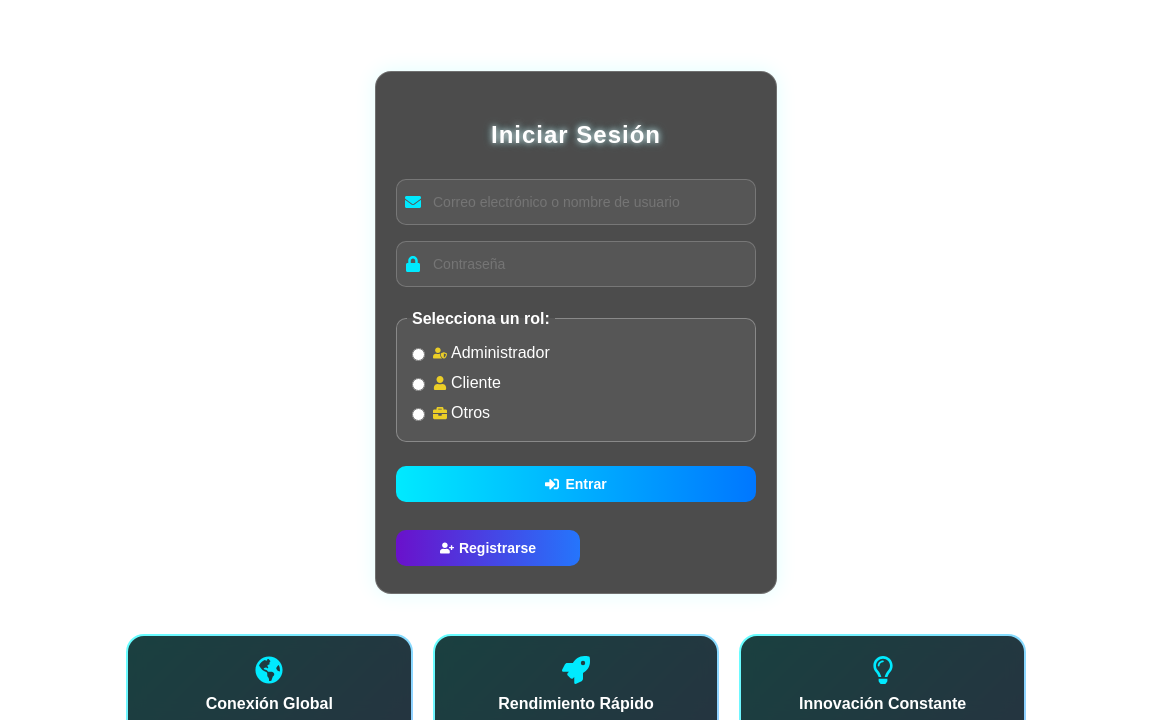
Test: Login Component › muestra mensaje de error cuando las credenciales son inválidas
Type "wrong@example.com" into the field with placeholder "Correo electrónico o nombre de usuario". click: {"x": 587, "y": 202}
box: left=427, top=188, right=747, bottom=216
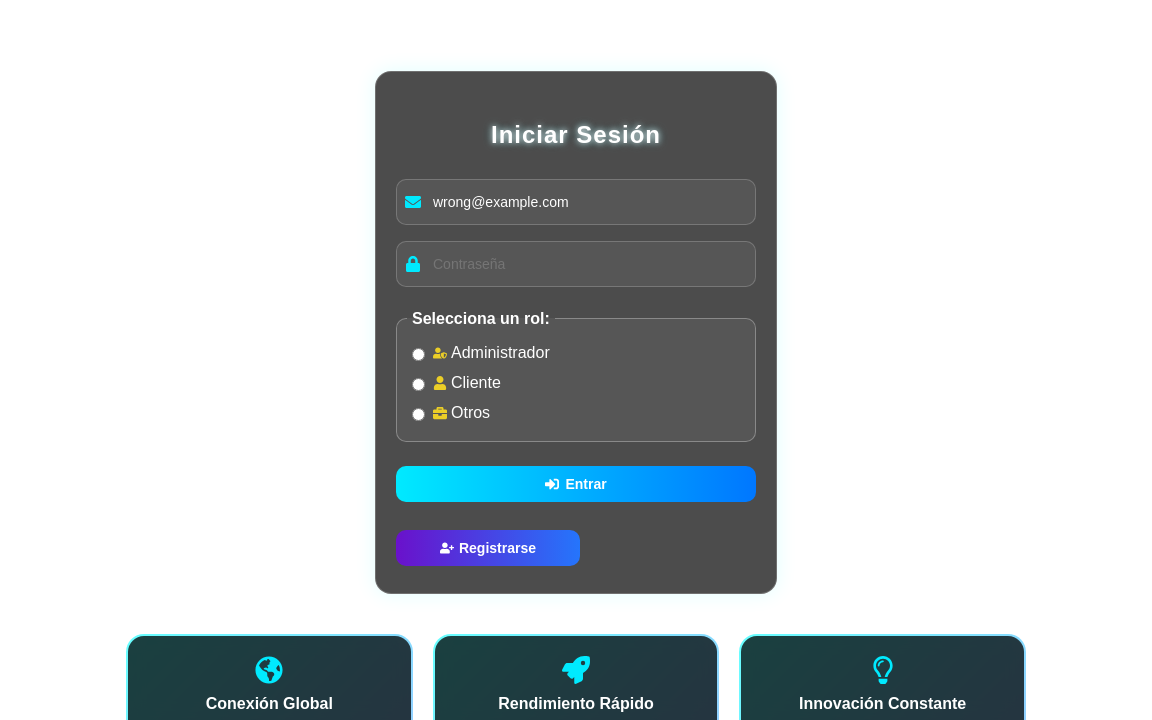
Type "wrongpass" into the password field with placeholder "Contraseña". click: {"x": 587, "y": 264}
box: left=427, top=250, right=747, bottom=278
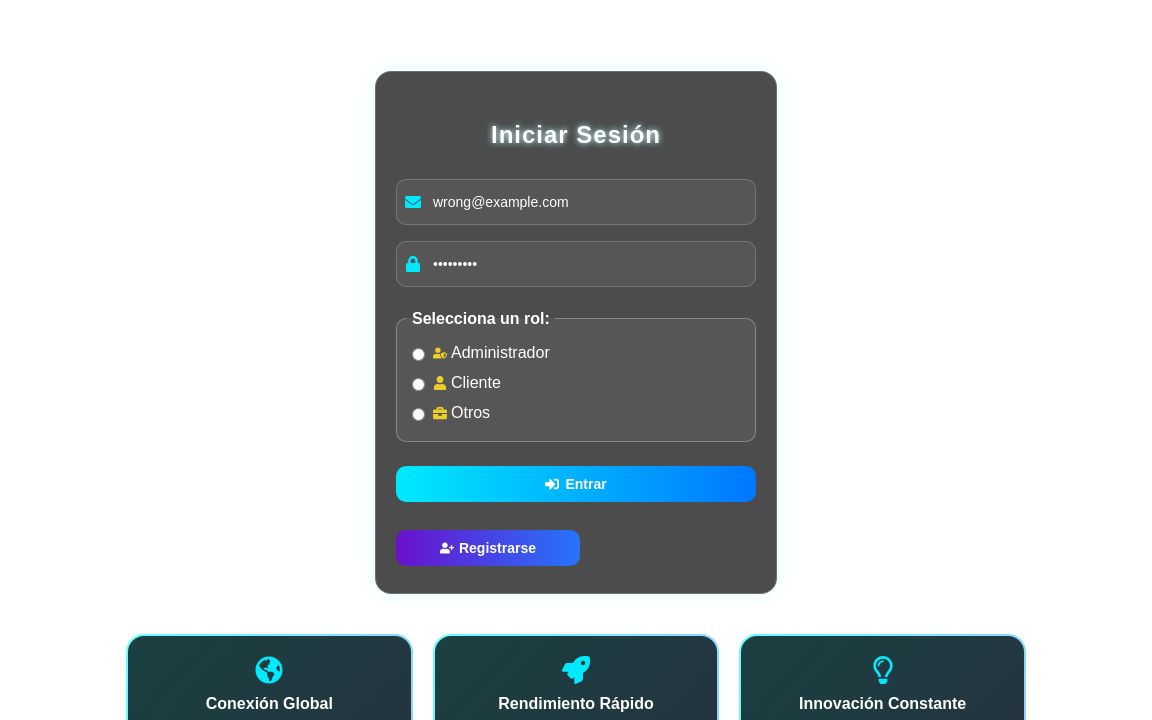
Click the radio button labelled "Cliente". click: {"x": 418, "y": 384}
box: left=412, top=378, right=425, bottom=391
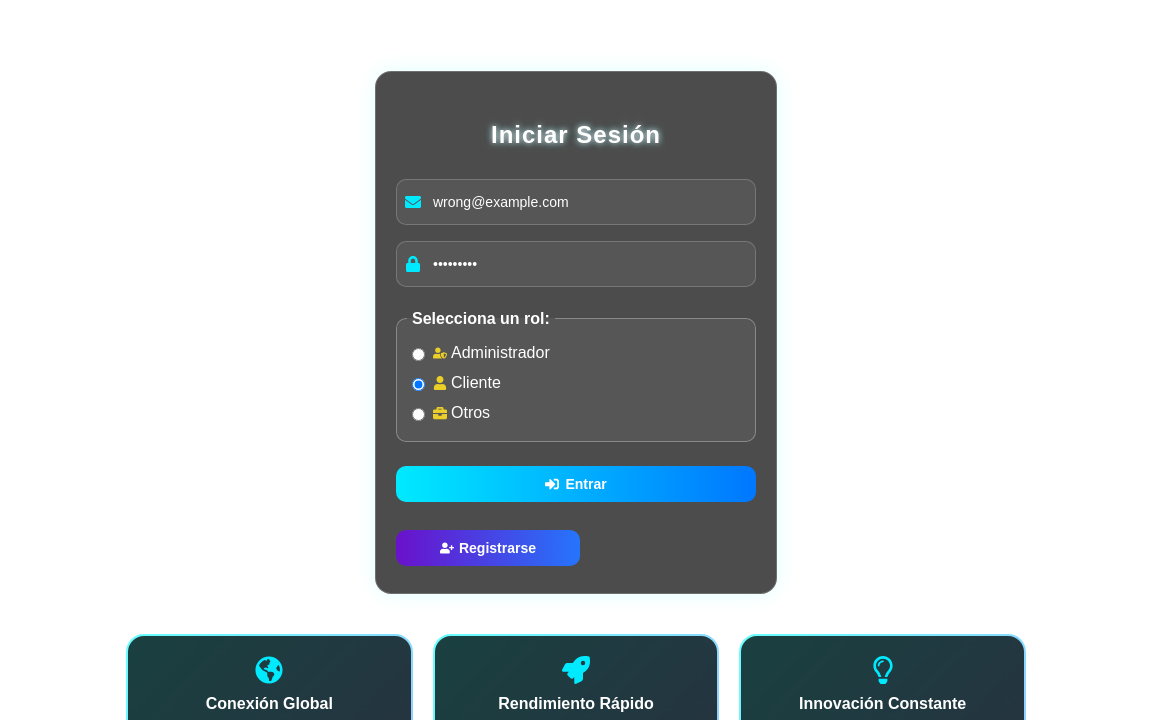
Click the button "Entrar". click: {"x": 576, "y": 484}
box: left=396, top=466, right=756, bottom=502
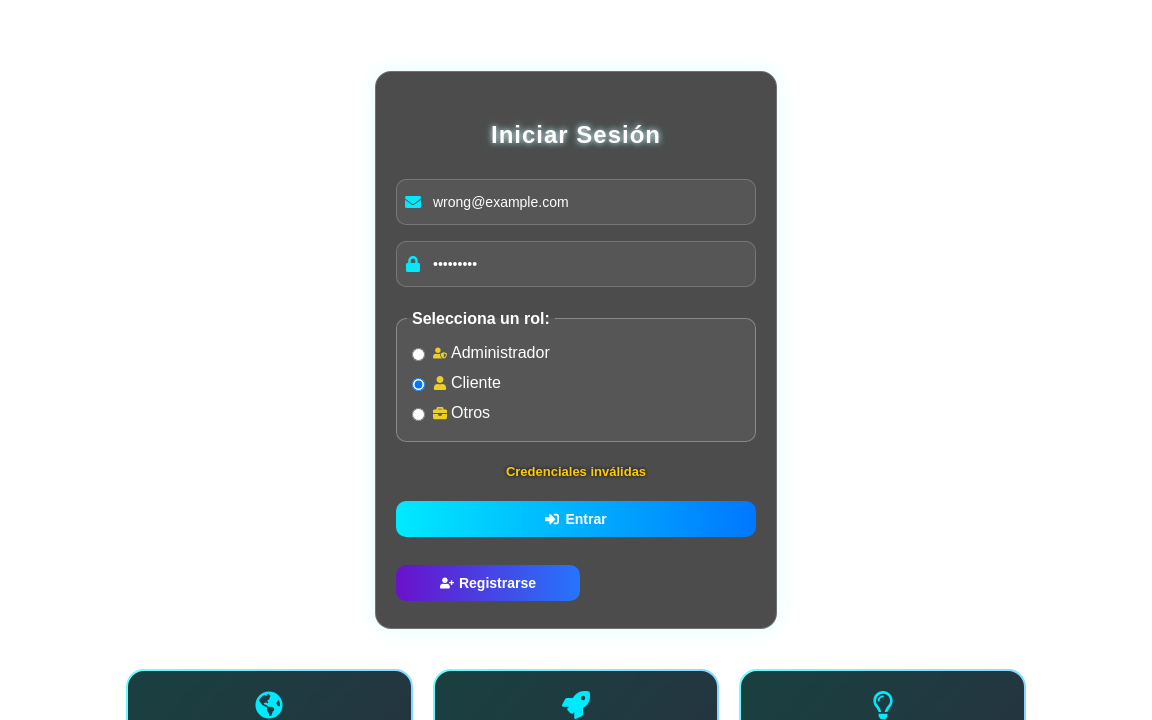
Now the text "Credenciales inválidas" is shown, box left=506, top=464, right=646, bottom=479
